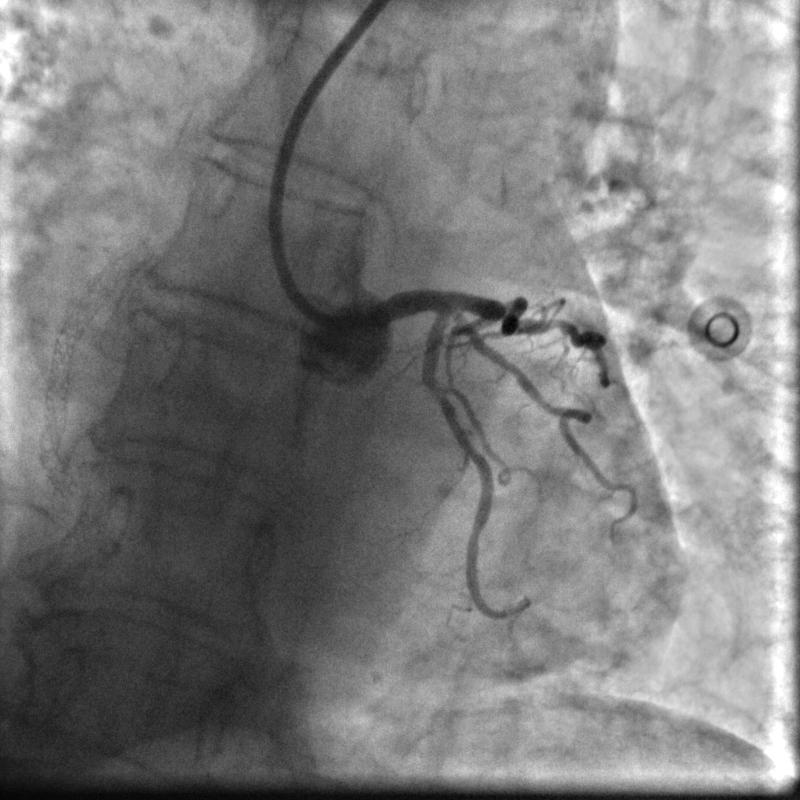Stenosis: (421, 374, 449, 398)
